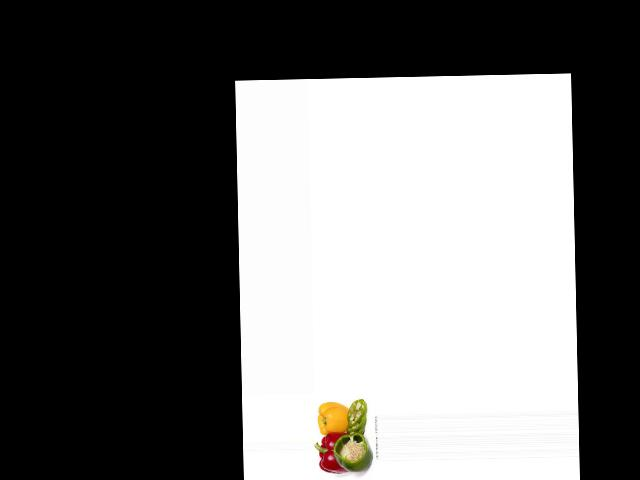bell_pepper: (332, 432, 369, 476)
